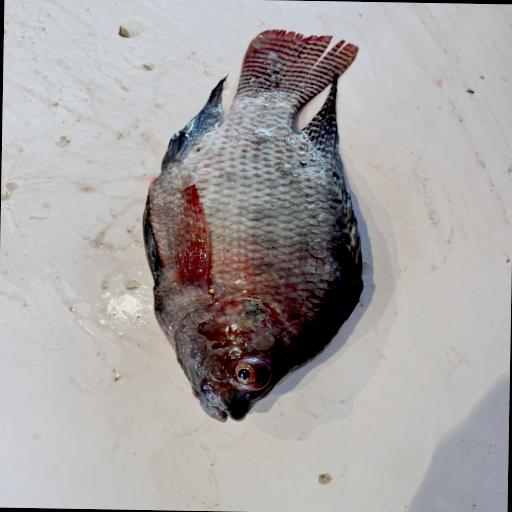Tilapia: (140, 27, 370, 426)
